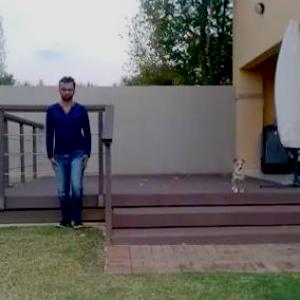follow: (45, 68, 93, 240)
